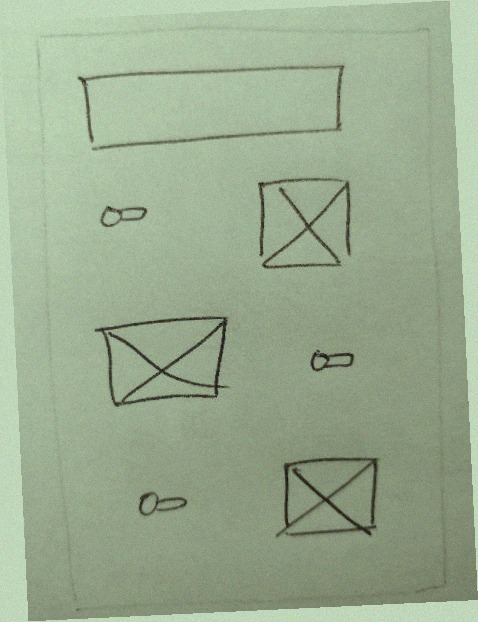image: (84, 308, 242, 417), (243, 164, 364, 279), (271, 448, 388, 547)
switch: (91, 190, 156, 237), (127, 481, 198, 523), (299, 340, 365, 380)
text_input: (71, 51, 356, 161)
